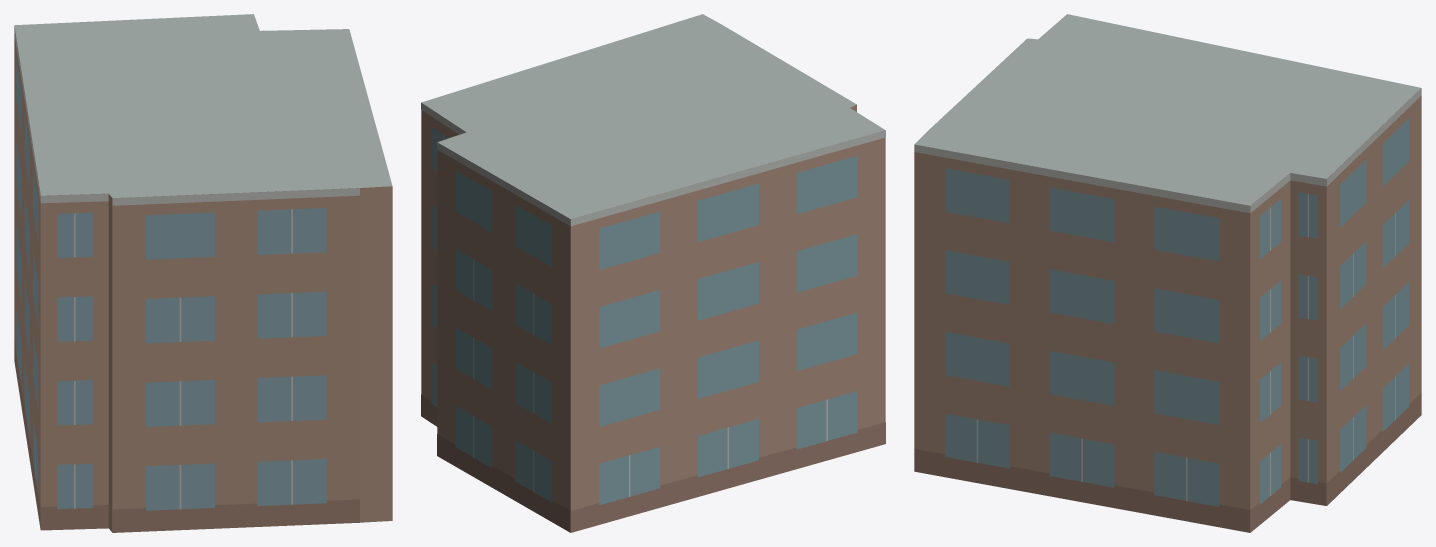
The model's file is survey-upis-32576622.glb.
3 renders of one model, left to right at view 1: azimuth 30°, elevation 25°; view 2: azimuth 150°, elevation 25°; view 3: azimuth 270°, elevation 25°, orthographic. The views are drawn at different scales.
Parts seen in each view (by area): view 1: survey-upis-32576622.tmp; view 2: survey-upis-32576622.tmp; view 3: survey-upis-32576622.tmp.
Part boxes in pixels (box(x1,y1,x2,y2)): survey-upis-32576622.tmp: box(14, 14, 392, 532); survey-upis-32576622.tmp: box(421, 14, 885, 532); survey-upis-32576622.tmp: box(914, 14, 1421, 532).
Size of the model in its own units: 13.34 by 10.6 by 14.91.
